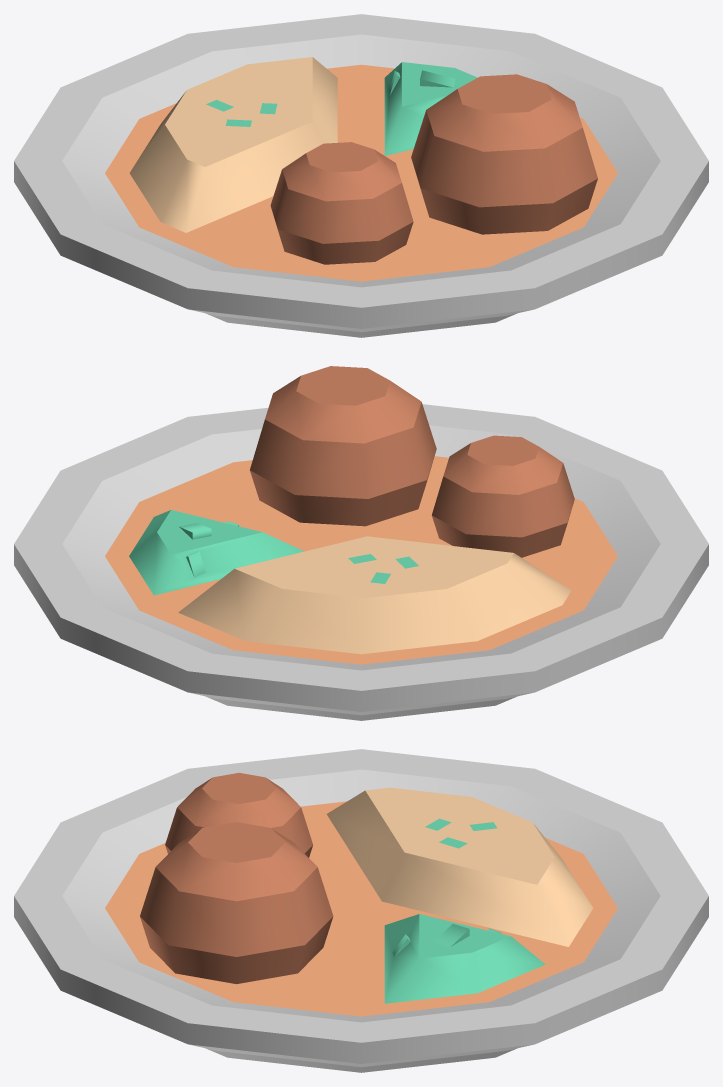
The model's file is meatballs.gltf.
3 renders of one model, top to bottom at view 1: azimuth 30°, elevation 25°; view 2: azimuth 150°, elevation 25°; view 3: azimuth 270°, elevation 25°, orthographic.
Parts seen in each view (by area): view 1: plateDinner; view 2: plateDinner; view 3: plateDinner.
Part boxes in pixels (x1=…): plateDinner: x1=14, y1=14, x2=708, y2=337; plateDinner: x1=14, y1=366, x2=708, y2=720; plateDinner: x1=14, y1=749, x2=708, y2=1072.
Size of the model in its own units: 0.8918 by 0.2214 by 0.8918.
